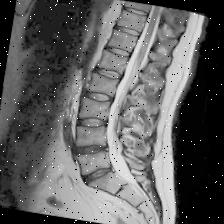disc: (68, 139, 113, 166), (110, 22, 144, 40), (102, 43, 136, 60), (123, 5, 152, 22)
hdisc: (83, 86, 118, 110), (93, 65, 128, 84), (76, 114, 109, 134)
